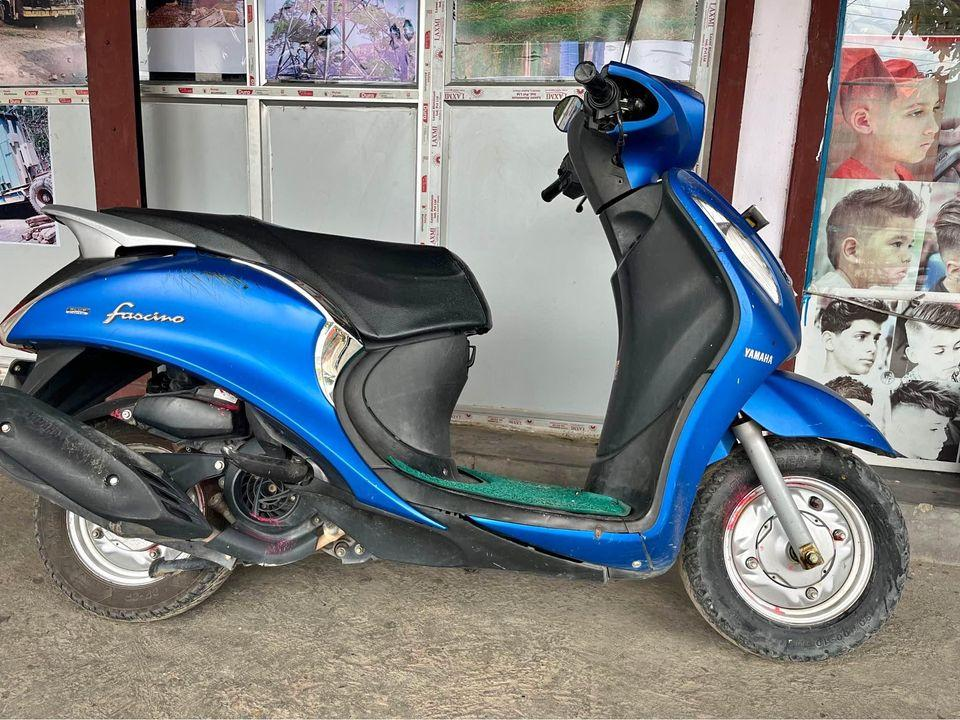scooter: (7, 53, 916, 683)
